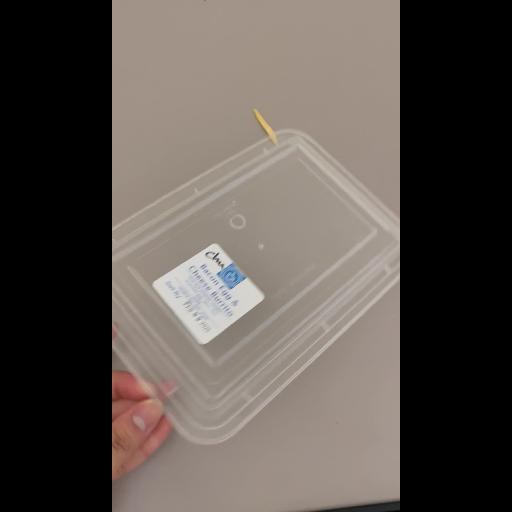rigid_plastic_lid: (114, 127, 400, 447)
